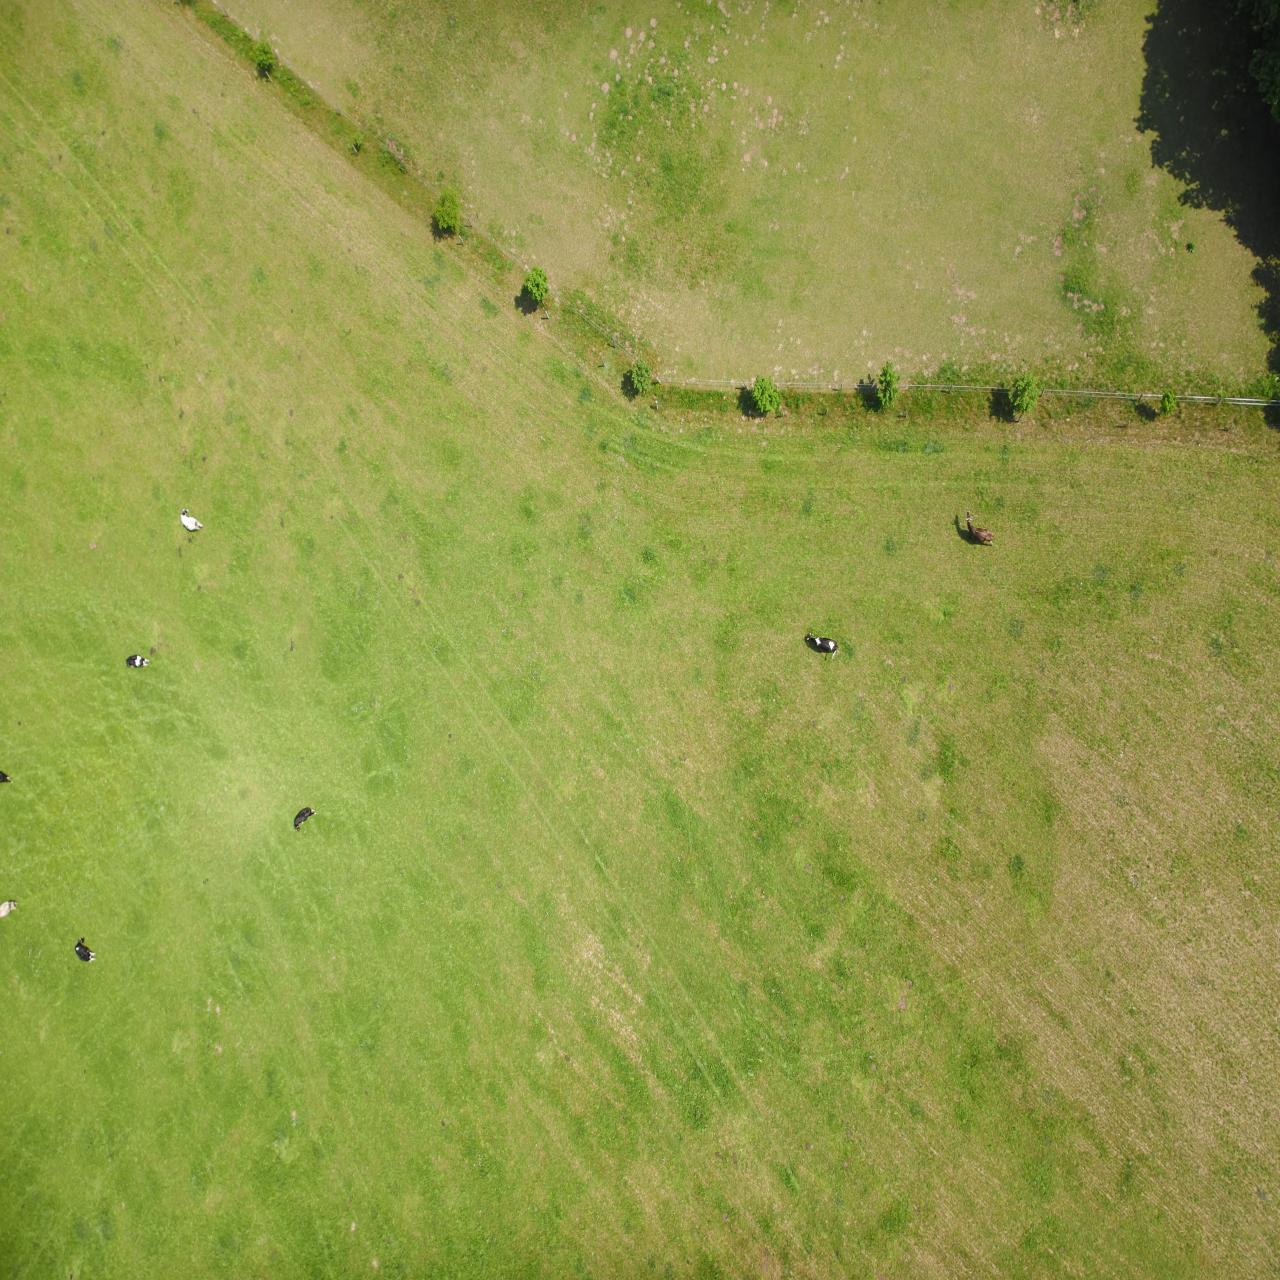cow: (442, 622, 476, 649), (286, 735, 313, 768), (1184, 316, 1205, 343), (964, 449, 987, 472), (1077, 749, 1099, 771), (1130, 612, 1155, 625)
